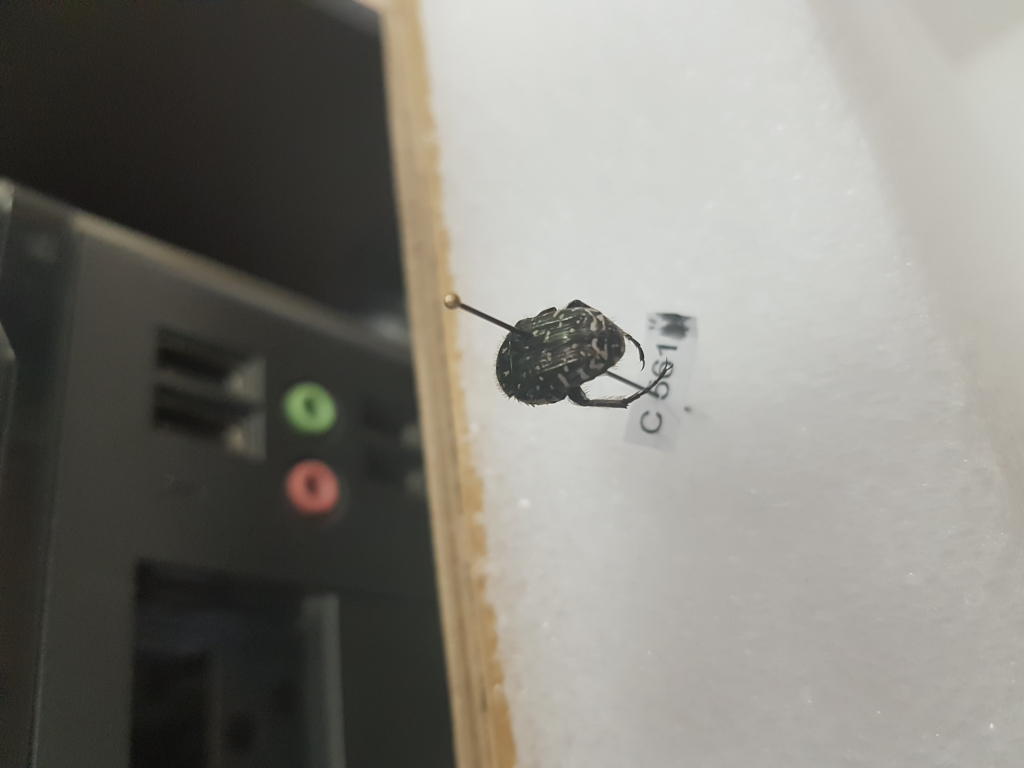Oxythyrea_funesta: (487, 297, 680, 418)
